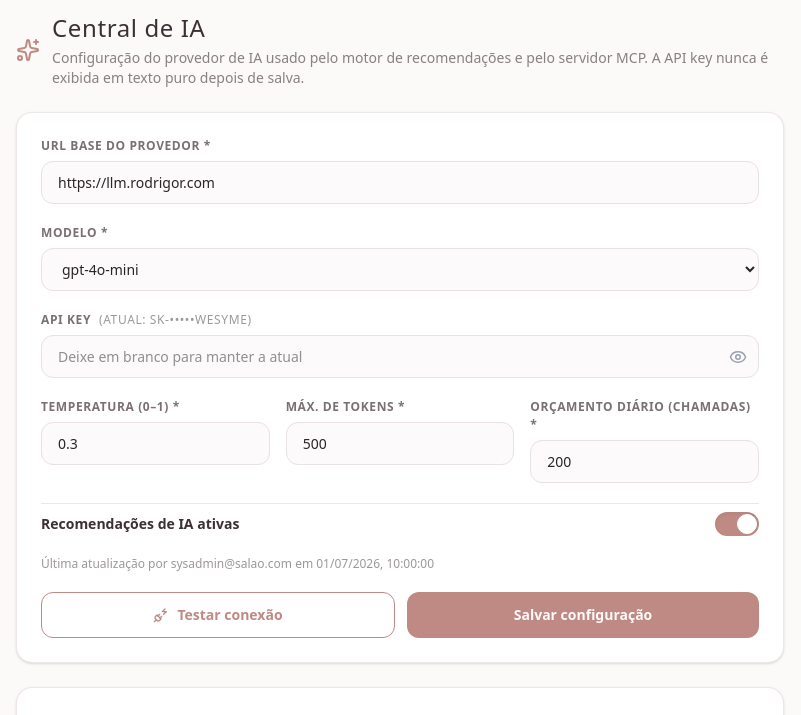
Scenario: AiConfig page › tests the connection with current form values and shows success feedback
Click the button "Testar conexão" at x=218, y=615, box [41,592,395,638]
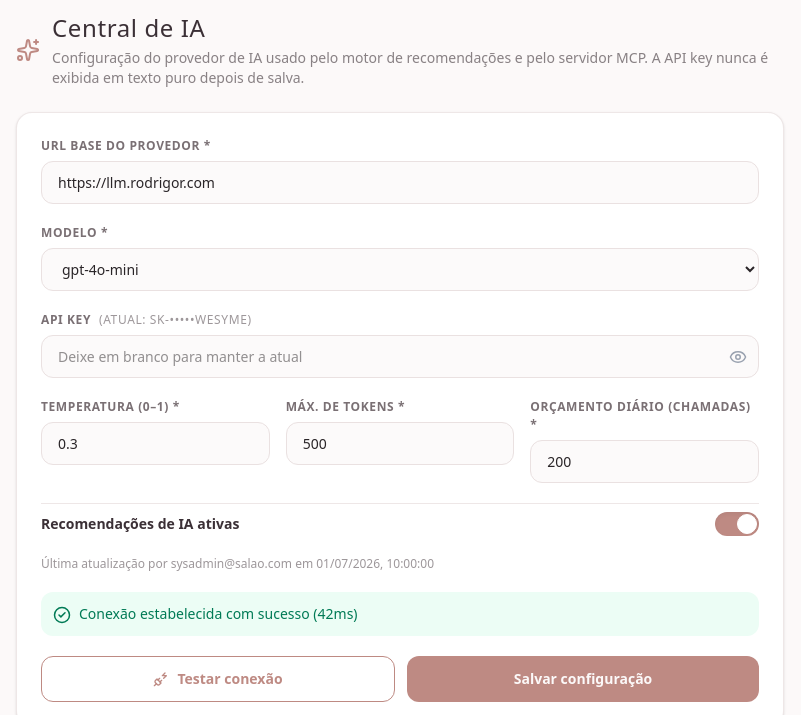
Expected: the text "Conexão estabelecida com sucesso (42ms)" is shown, [79,604,358,624]
